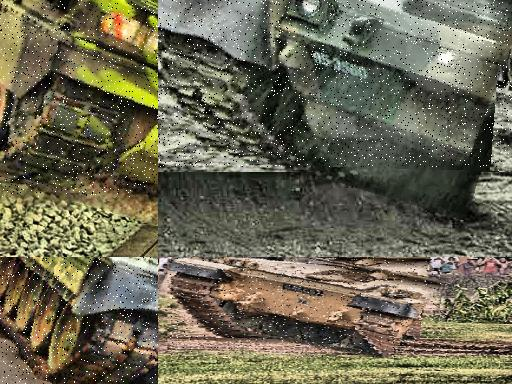tanks: (159, 1, 512, 168), (1, 1, 159, 184), (168, 258, 445, 359), (1, 258, 159, 384)
